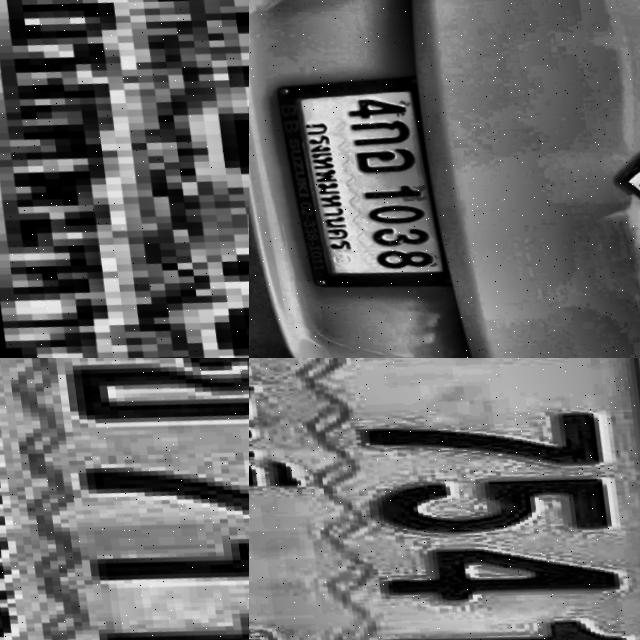license-plate: (249, 358, 640, 640), (0, 0, 249, 358), (0, 358, 249, 640), (270, 51, 461, 300)
